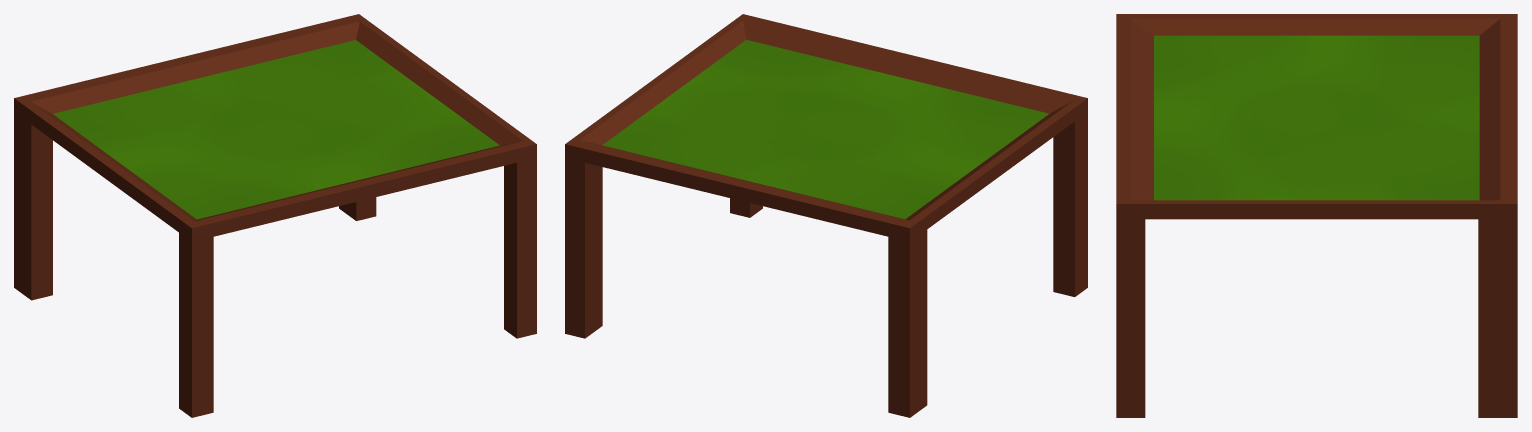
Rendered from mesa.glb.
3 views of the same model, side by side, from view 1: azimuth 30°, elevation 25°; view 2: azimuth 150°, elevation 25°; view 3: azimuth 270°, elevation 25° (orthographic). The views are drawn at different scales.
Visible parts, largest first — view 1: Cube; view 2: Cube; view 3: Cube.
Part boxes in pixels (left/top/right/bottom): Cube: left=14, top=14, right=536, bottom=417; Cube: left=565, top=14, right=1087, bottom=417; Cube: left=1116, top=14, right=1517, bottom=417.
Bounding box in the file's own units: 4.69 × 2.46 × 4.19.
Materials: 2 (1 with a texture image).
